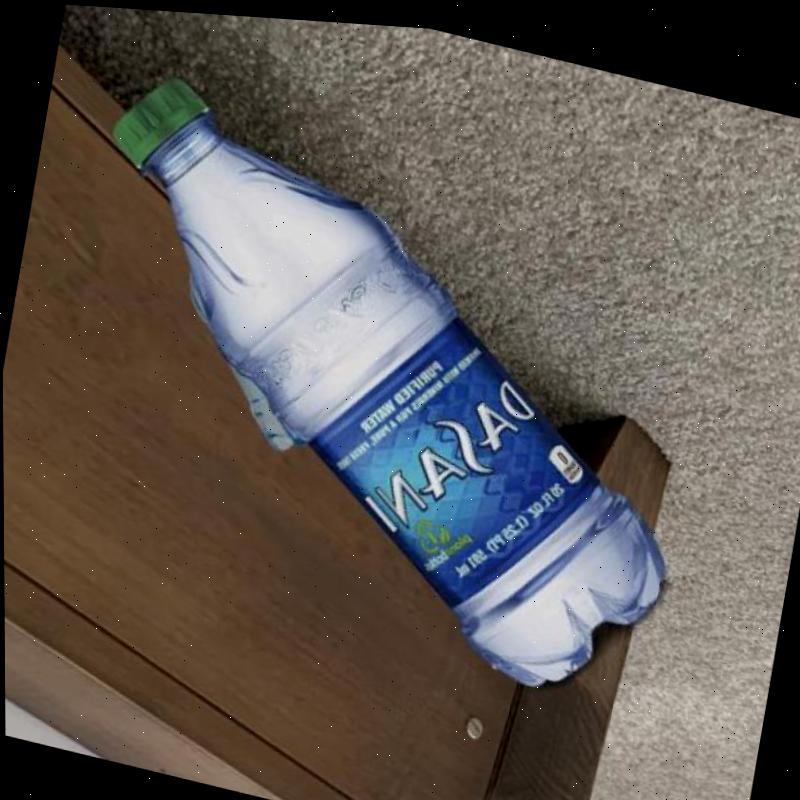botella: (35, 57, 733, 711), (159, 267, 320, 452)
